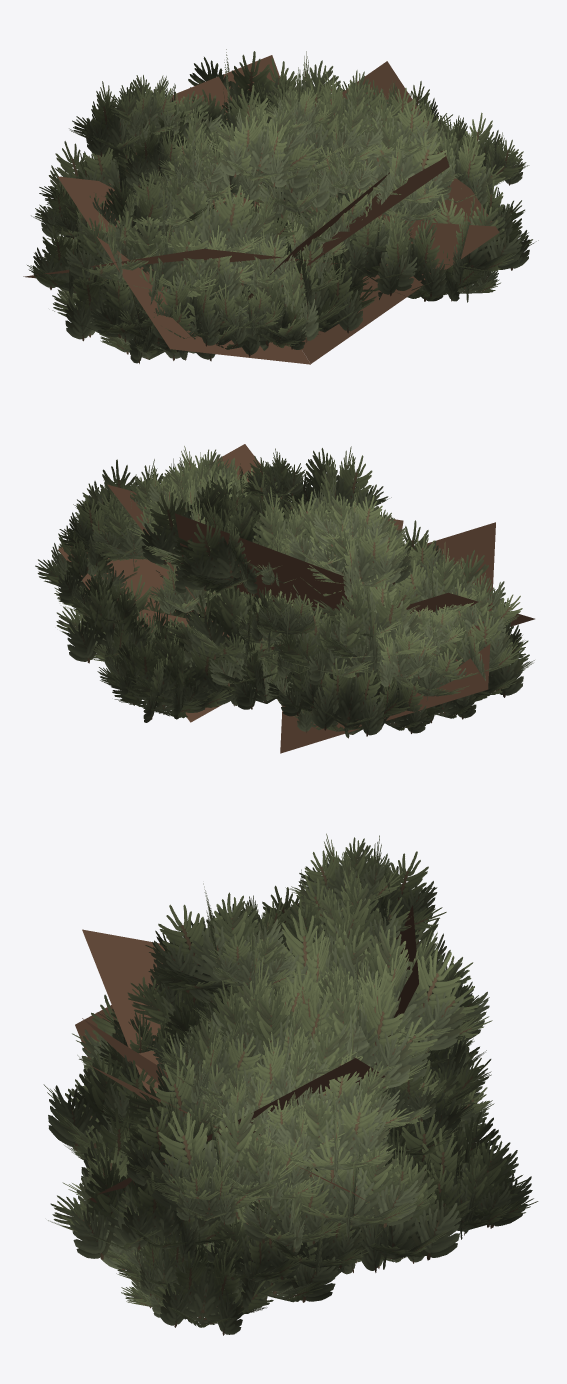
The model's file is SM_Env_Bush_01.fbx.
3 renders of one model, top to bottom at view 1: azimuth 30°, elevation 25°; view 2: azimuth 150°, elevation 25°; view 3: azimuth 270°, elevation 25°, orthographic. The views are drawn at different scales.
Parts seen in each view (by area): view 1: SM_Env_Bush_01_LOD0, SM_Env_Bush_01_Branches_LOD0; view 2: SM_Env_Bush_01_LOD0, SM_Env_Bush_01_Branches_LOD0; view 3: SM_Env_Bush_01_LOD0, SM_Env_Bush_01_Branches_LOD0.
Part boxes in pixels (left/top/right/bottom): SM_Env_Bush_01_LOD0: left=27, top=49, right=538, bottom=363; SM_Env_Bush_01_Branches_LOD0: left=23, top=55, right=499, bottom=364; SM_Env_Bush_01_LOD0: left=35, top=446, right=534, bottom=738; SM_Env_Bush_01_Branches_LOD0: left=58, top=444, right=534, bottom=753; SM_Env_Bush_01_LOD0: left=43, top=833, right=538, bottom=1335; SM_Env_Bush_01_Branches_LOD0: left=75, top=903, right=418, bottom=1202.
Size of what is drawn, in the model's own units: 405 by 216 by 281.
